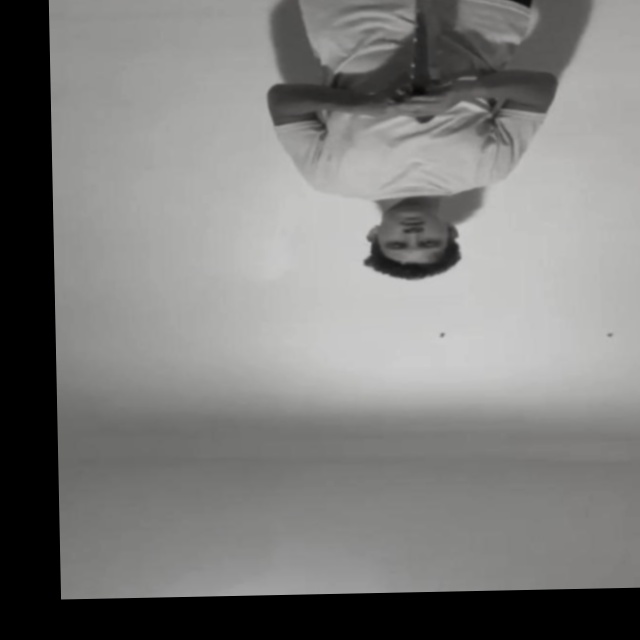Sharp-Object: (405, 11, 433, 82)
